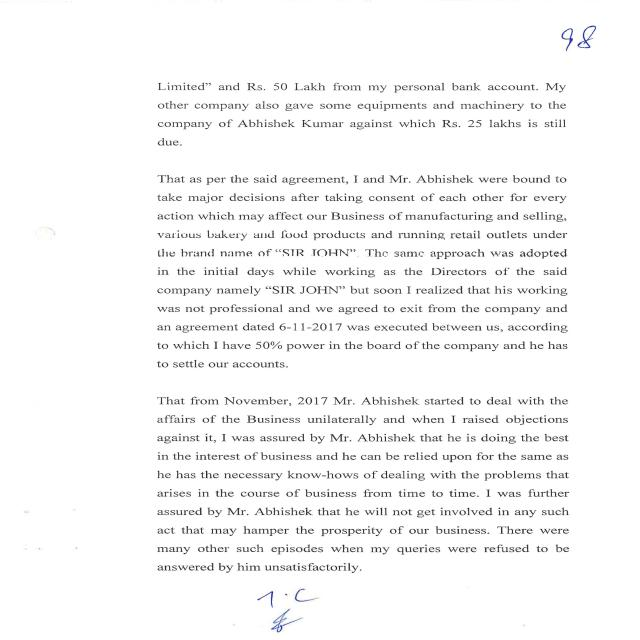page-number: (0, 0, 640, 57)
